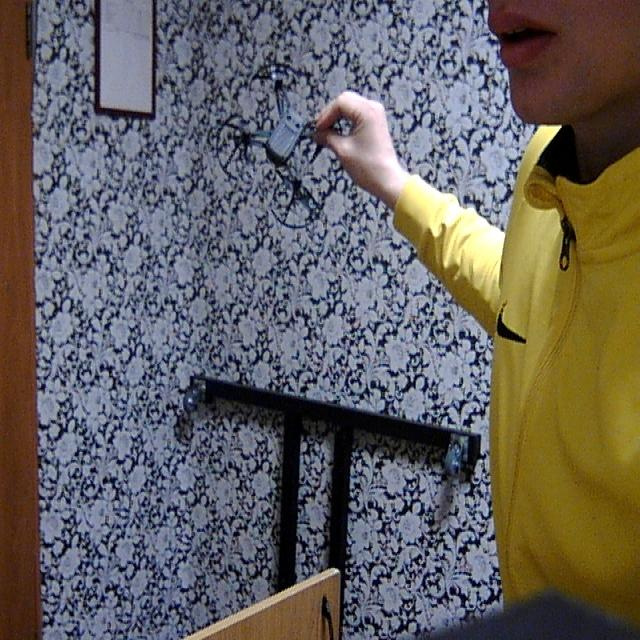drone: (204, 36, 376, 235)
